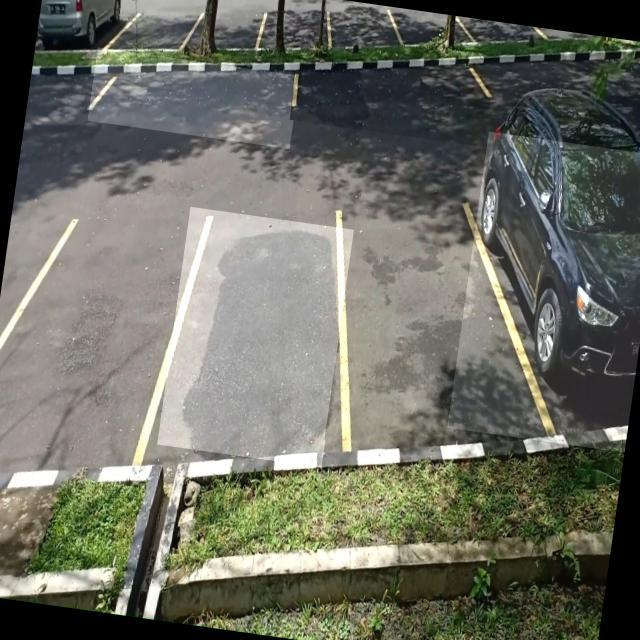empty: (157, 207, 355, 468), (324, 192, 503, 460), (0, 210, 183, 459), (87, 48, 300, 150), (290, 51, 494, 148)
occupied: (447, 131, 640, 452)
